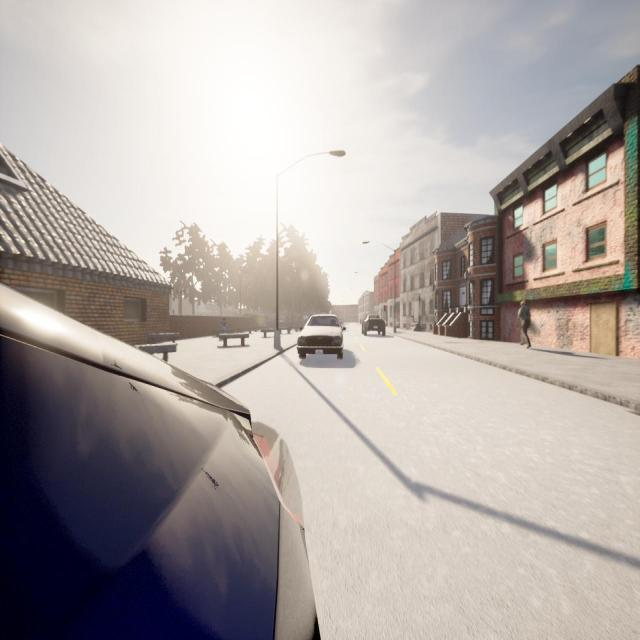Pedestrian: (516, 300, 532, 349), (221, 317, 227, 333)
Vehicle: (0, 283, 323, 640), (297, 314, 346, 360), (362, 314, 386, 336)
traffic_light: (384, 303, 385, 311)
